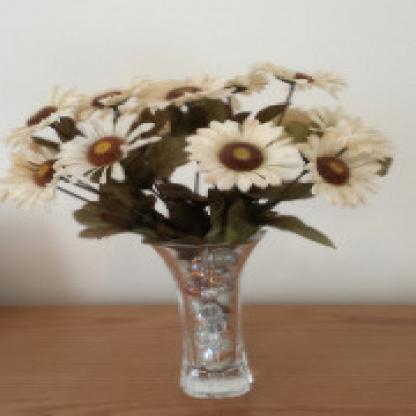ASTER: (6, 32, 408, 275)
